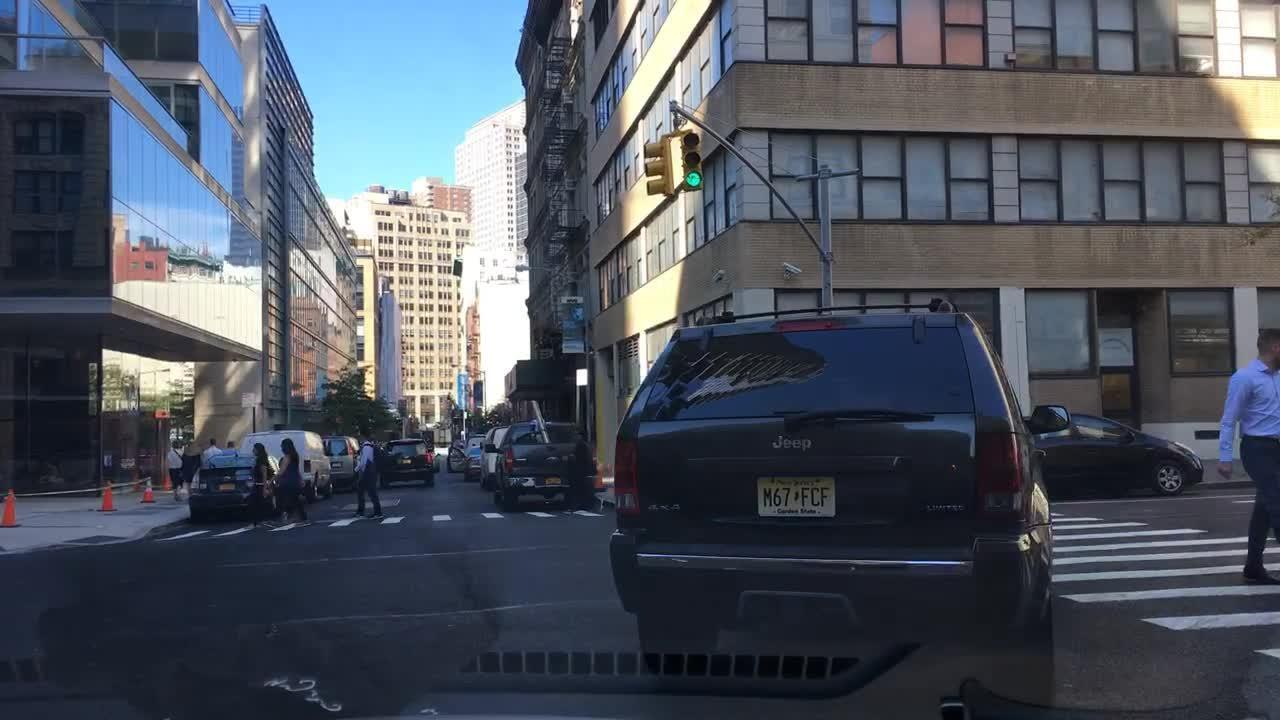jeep: (763, 424, 832, 462)
